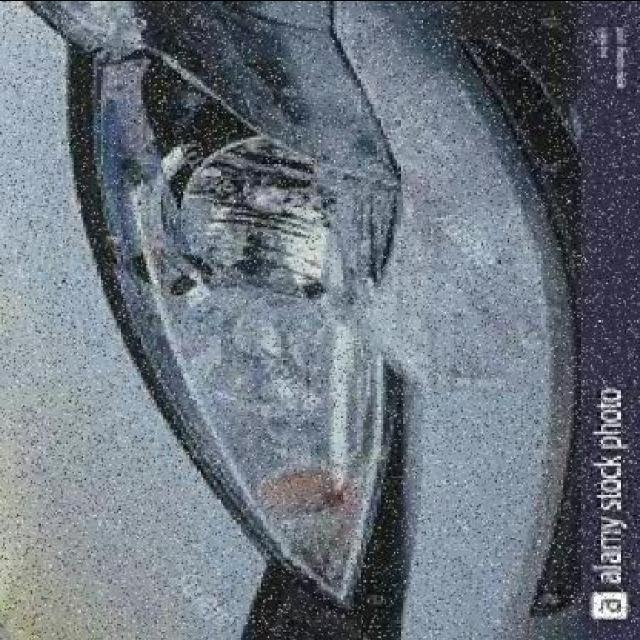Headlight-Damage: (51, 3, 428, 619)
